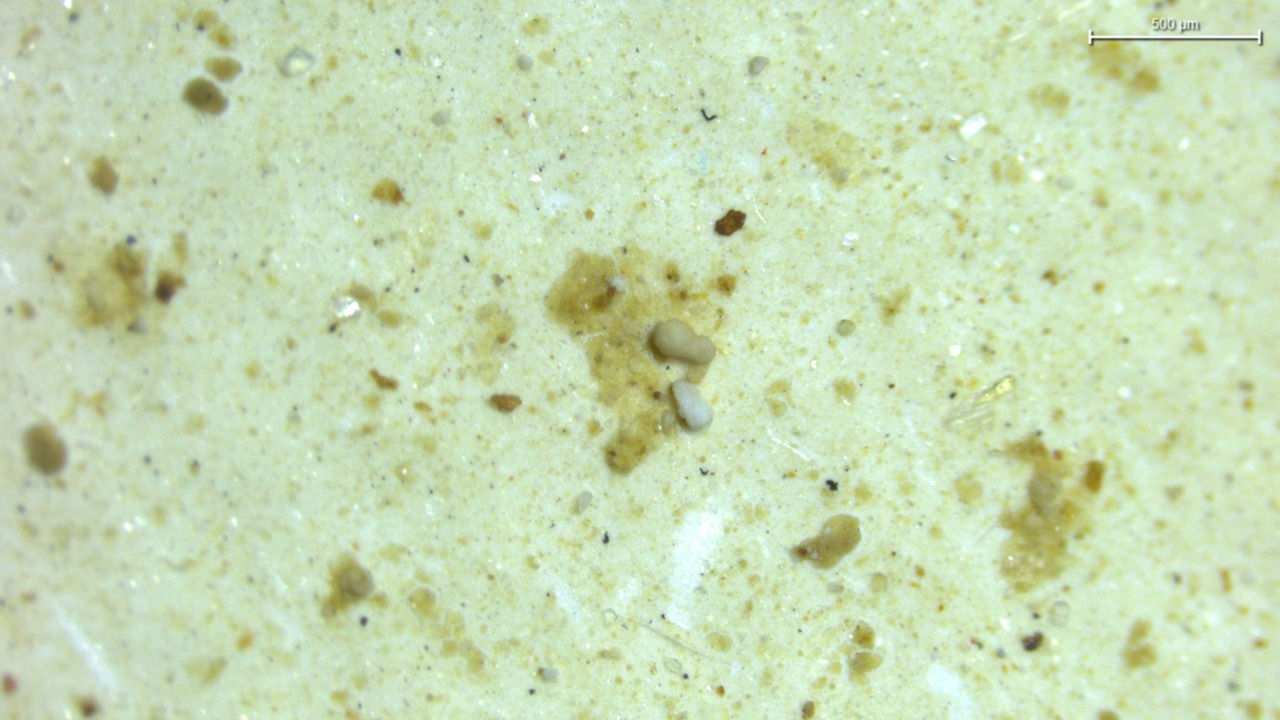microplastic_fragment: (650, 320, 715, 364), (671, 380, 711, 430)
